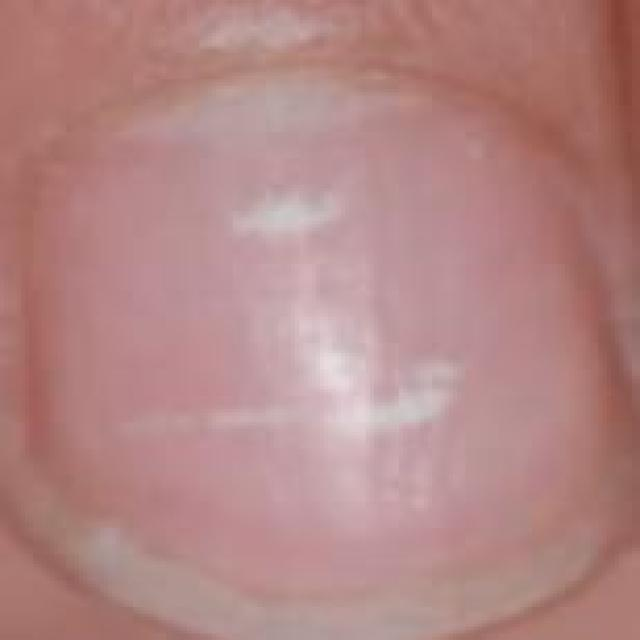Nail: (28, 81, 625, 640)
